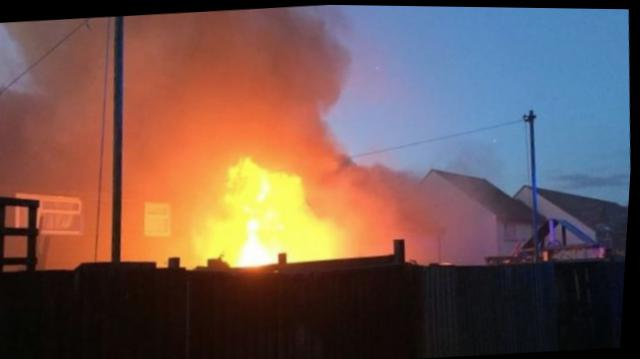fire: (183, 144, 351, 269)
